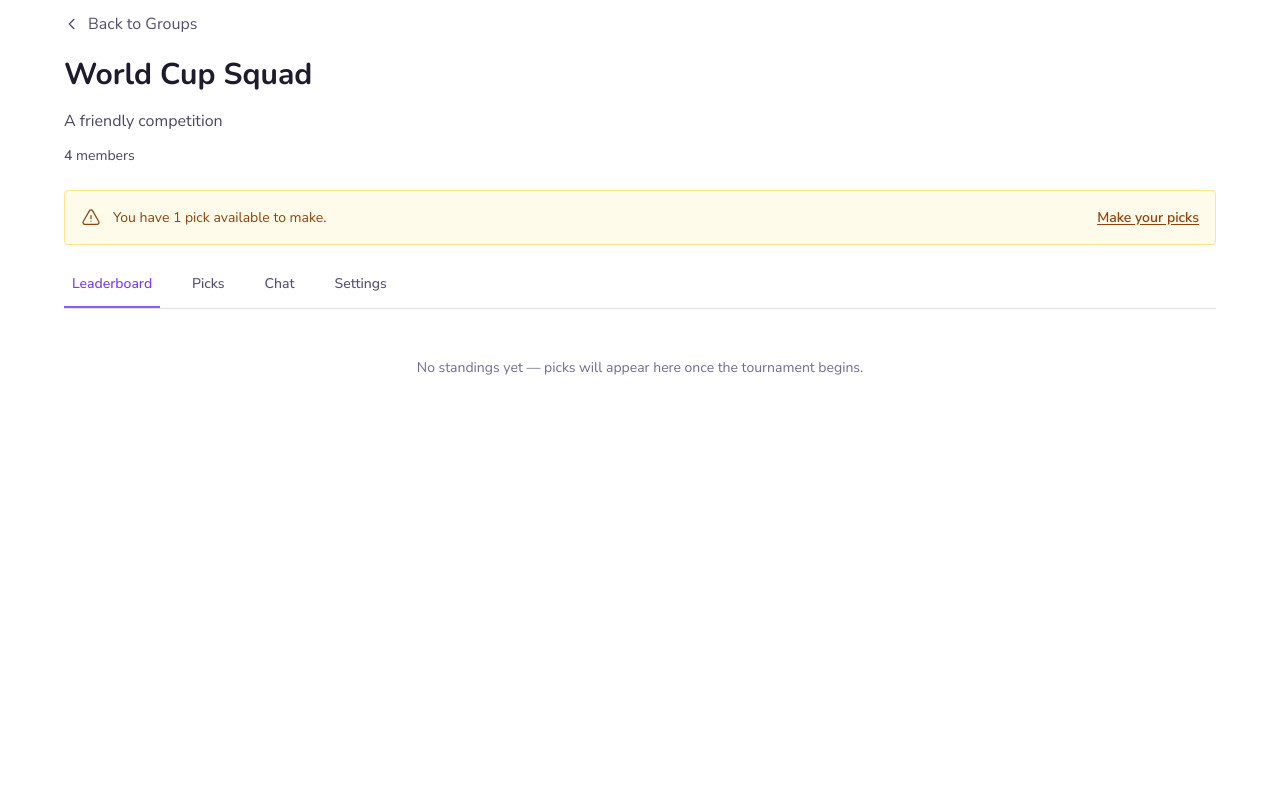
GroupDetailsPage › World Cup pool › banner CTA deeplinks to the Picks tab with the "Needs pick" chip pre-selected
This screenshot has width=1280, height=812.
Expected: the heading "World Cup Squad" is shown, [64, 54, 312, 95]
Click the button "Make your picks" at (1148, 218), box [1097, 207, 1199, 228]
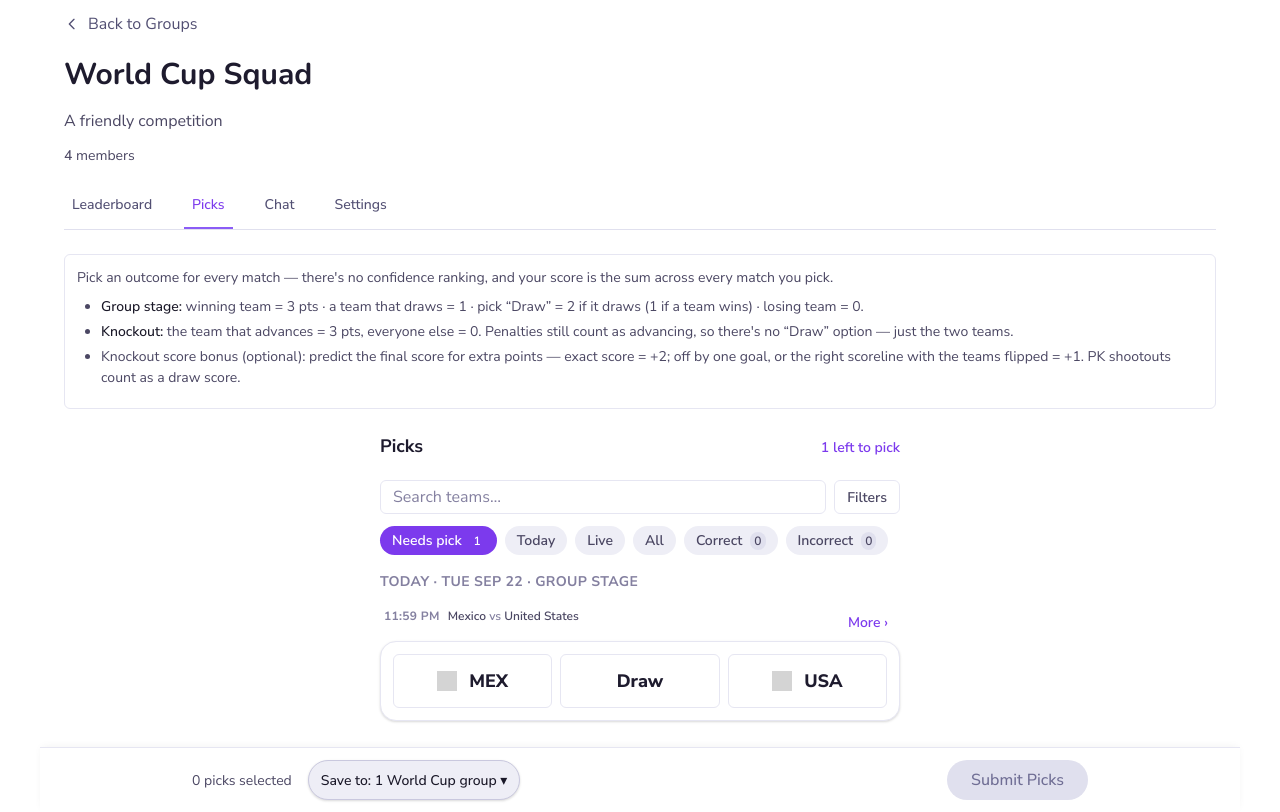
Result: the button "Submit Picks" is shown at [947, 760, 1088, 800]
